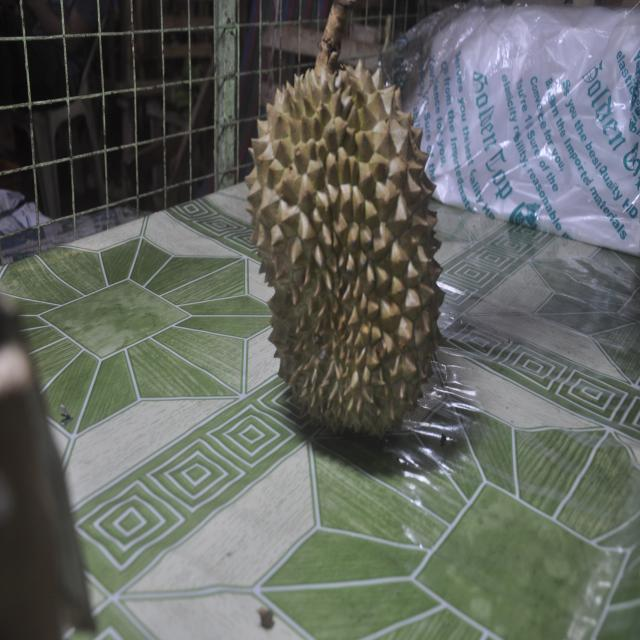mature: (246, 0, 444, 438)
